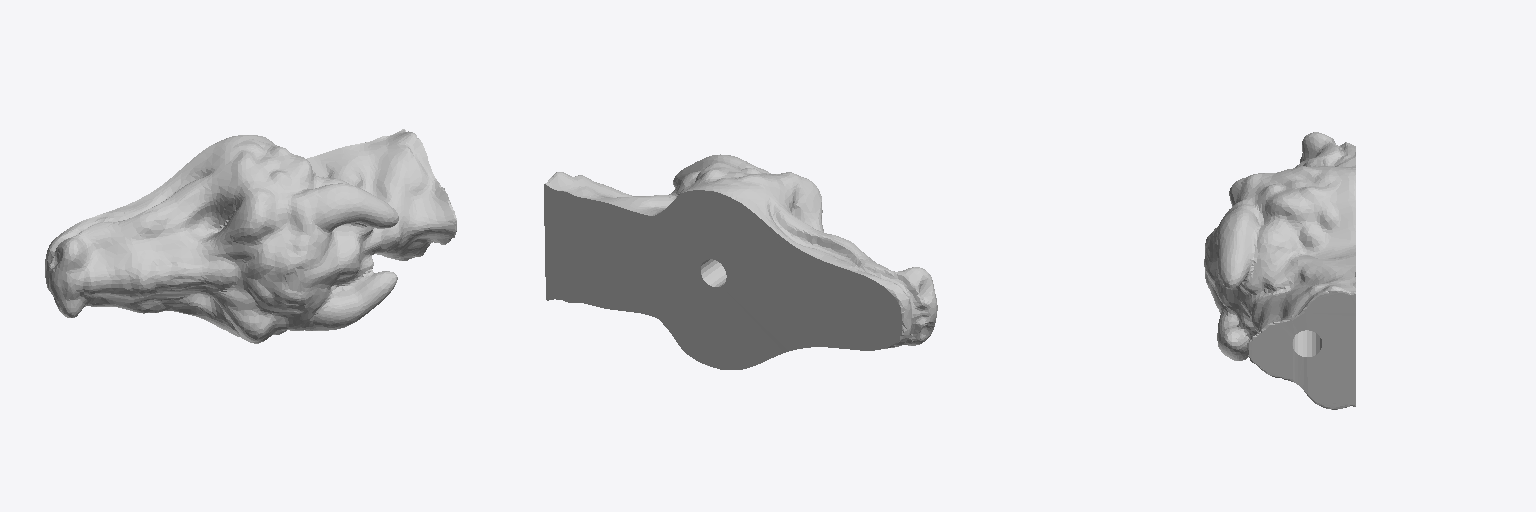
Rendered from 80757-dragon_head_QEM_50pct.obj.
The picture shows the model from 3 angles: view 1: azimuth 30°, elevation 25°; view 2: azimuth 150°, elevation 25°; view 3: azimuth 270°, elevation 25°; orthographic projection.
Bounding box in the file's own units: 1 × 0.4604 × 0.3516.